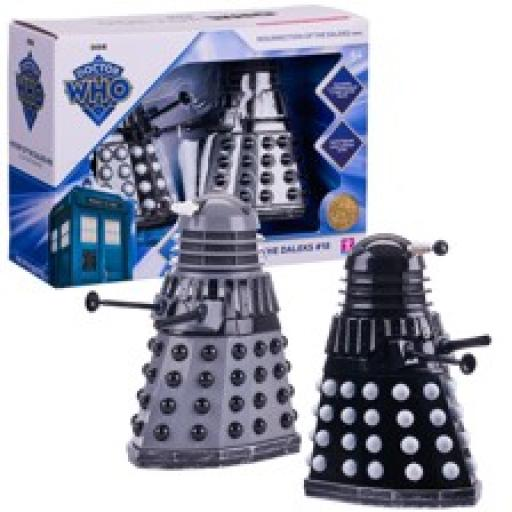dalek: (74, 192, 302, 468), (304, 234, 494, 511), (203, 55, 313, 223), (90, 84, 194, 222)
